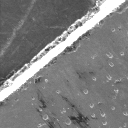corrosion: (83, 87, 90, 95), (106, 73, 113, 81), (64, 117, 71, 125), (42, 113, 49, 120), (106, 51, 113, 58), (119, 49, 125, 57), (108, 61, 114, 68), (100, 111, 106, 118), (113, 87, 119, 94), (91, 75, 97, 81), (55, 88, 61, 94), (122, 110, 128, 116), (60, 108, 67, 113), (102, 120, 107, 126), (110, 106, 116, 111), (91, 112, 96, 118), (111, 26, 116, 32), (89, 103, 94, 108), (44, 77, 48, 83)
